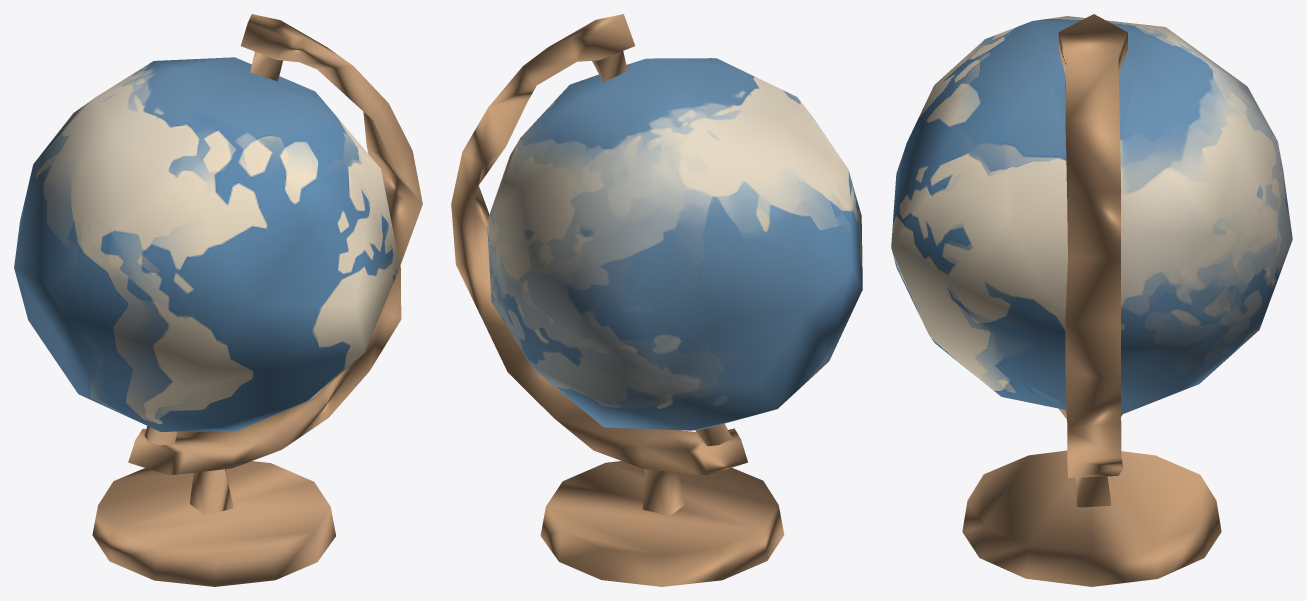
Rendered from globe.fbx.
3 views of the same model, side by side, from view 1: azimuth 30°, elevation 25°; view 2: azimuth 150°, elevation 25°; view 3: azimuth 270°, elevation 25° (orthographic). The views are drawn at different scales.
Parts seen in each view (by area): view 1: Mesh_0; view 2: Mesh_0; view 3: Mesh_0.
Part boxes in pixels (x1,y1,x2,y2): Mesh_0: (14, 14, 422, 586); Mesh_0: (451, 14, 862, 586); Mesh_0: (891, 14, 1292, 586).
Bounding box in the file's own units: 73.54 × 94.48 × 64.21.
1 material, 1 textured.
